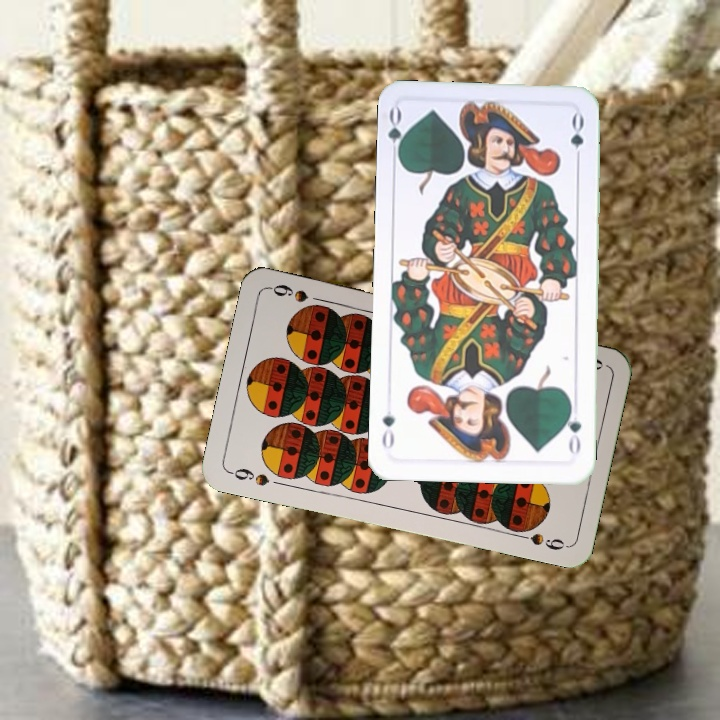GO: (384, 105, 411, 164), (561, 400, 585, 459)
S9: (225, 464, 272, 489)
